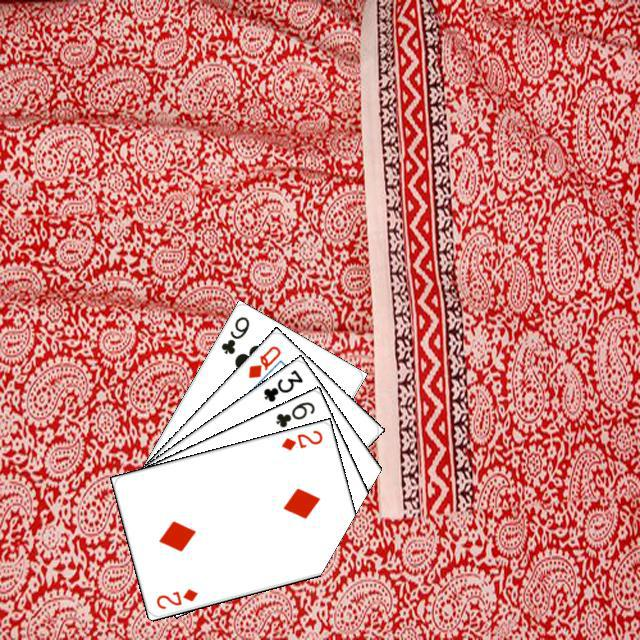2d: (151, 583, 199, 611), (276, 425, 324, 452)
3c: (258, 364, 305, 404)
6c: (271, 397, 317, 429)
9c: (216, 311, 251, 356)
Qd: (243, 341, 282, 380)
